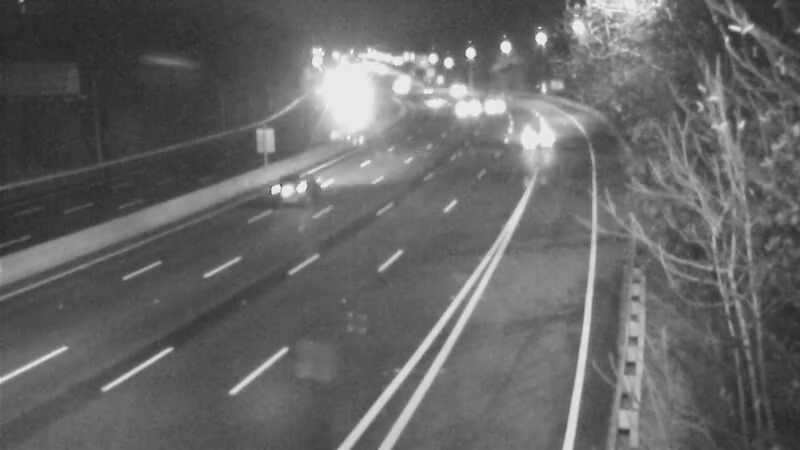vehicle: (247, 146, 327, 226), (430, 61, 480, 111), (377, 62, 427, 112), (399, 66, 449, 116), (410, 78, 460, 128), (442, 81, 492, 131), (466, 81, 516, 131), (514, 116, 564, 166)
